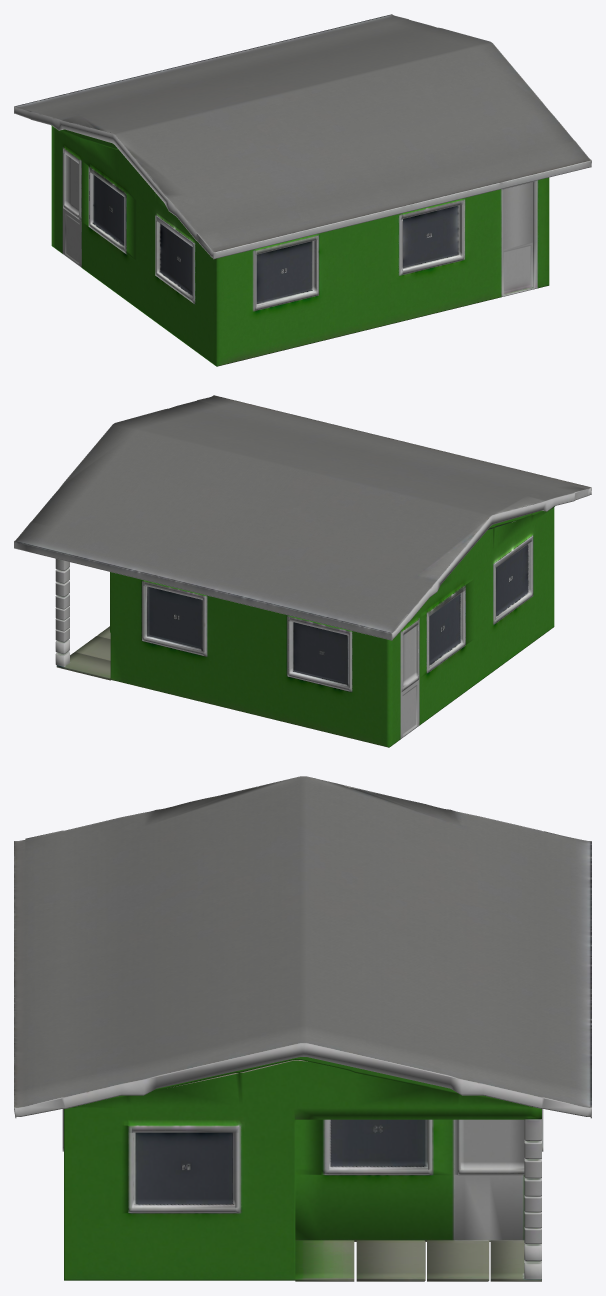
File: tripo_convert_35e8b9a1-5dd6-4f09-8971-7253a89a5ec6.fbx
3 views of the same model, one above another, from view 1: azimuth 30°, elevation 25°; view 2: azimuth 150°, elevation 25°; view 3: azimuth 270°, elevation 25° (orthographic). The views are drawn at different scales.
Visible parts, largest first — view 1: tripo_node_35e8b9a1; view 2: tripo_node_35e8b9a1; view 3: tripo_node_35e8b9a1.
Boxes of the visible parts, x1=… form: tripo_node_35e8b9a1: x1=14, y1=14, x2=591, y2=366; tripo_node_35e8b9a1: x1=14, y1=395, x2=591, y2=747; tripo_node_35e8b9a1: x1=14, y1=776, x2=591, y2=1281.
Bounding box in the file's own units: 0.9878 × 0.4421 × 0.9037.
